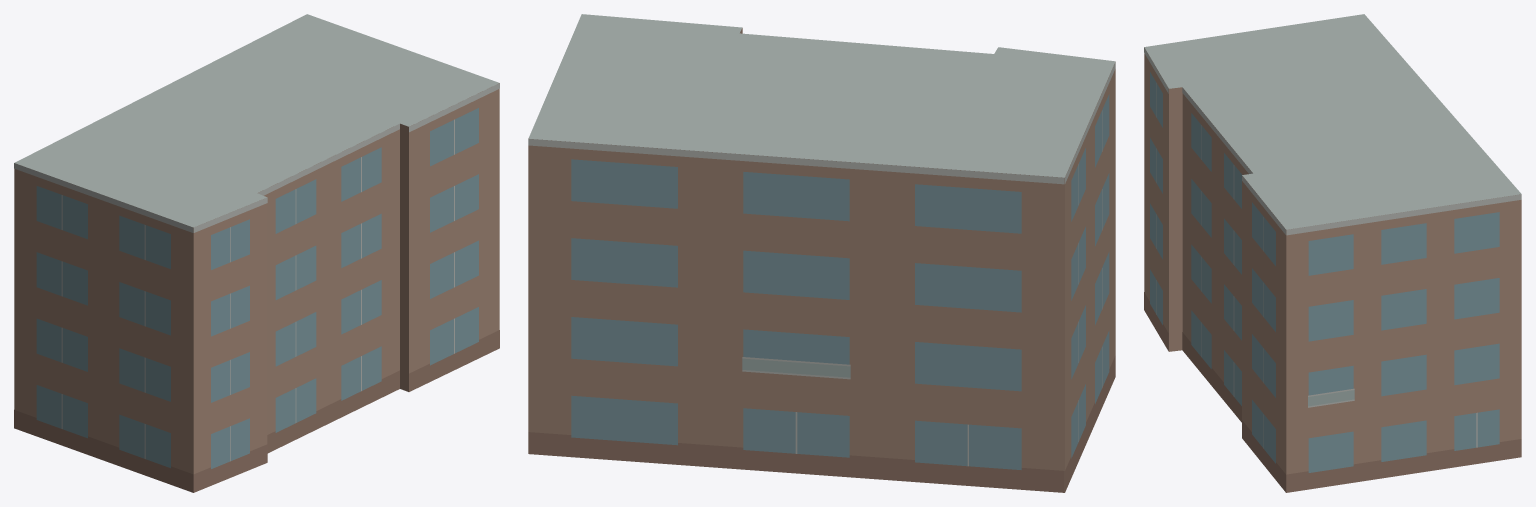
File: survey-upis-32650419.glb
3 views of the same model, side by side, from view 1: azimuth 30°, elevation 25°; view 2: azimuth 150°, elevation 25°; view 3: azimuth 270°, elevation 25° (orthographic). The views are drawn at different scales.
Visible parts, largest first — view 1: survey-upis-32650419.tmp; view 2: survey-upis-32650419.tmp; view 3: survey-upis-32650419.tmp.
Part boxes in pixels (x1,y1,x2,y2): survey-upis-32650419.tmp: [14, 14, 499, 492]; survey-upis-32650419.tmp: [528, 14, 1115, 492]; survey-upis-32650419.tmp: [1144, 14, 1521, 492].
Size of the model in its own units: 20.07 by 11.4 by 14.84.
